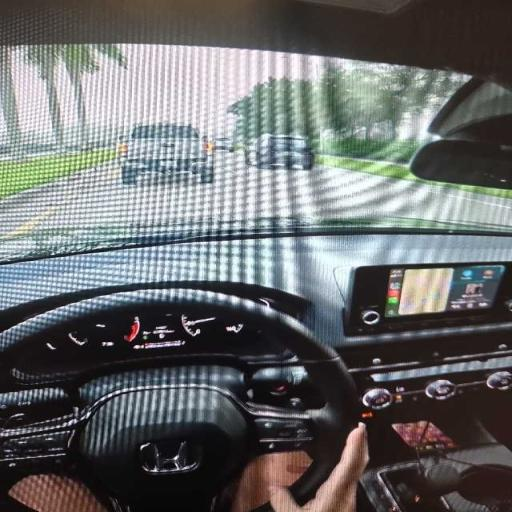car: (0, 0, 511, 511), (118, 124, 214, 184), (245, 134, 314, 169), (214, 137, 233, 152)
lane: (1, 154, 511, 234)
person: (232, 424, 367, 511)
